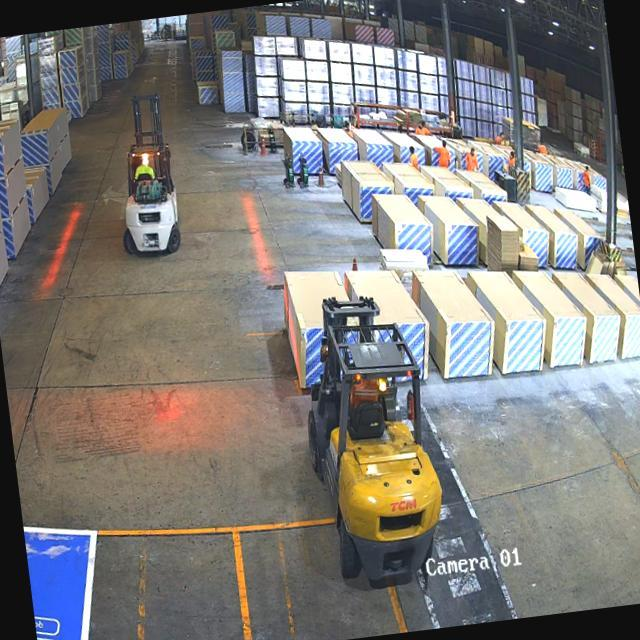driver: (351, 372, 382, 416), (132, 154, 156, 185)
forklift: (290, 289, 458, 600), (105, 86, 189, 263)
person: (434, 138, 451, 168), (464, 146, 478, 172), (406, 144, 418, 169)
